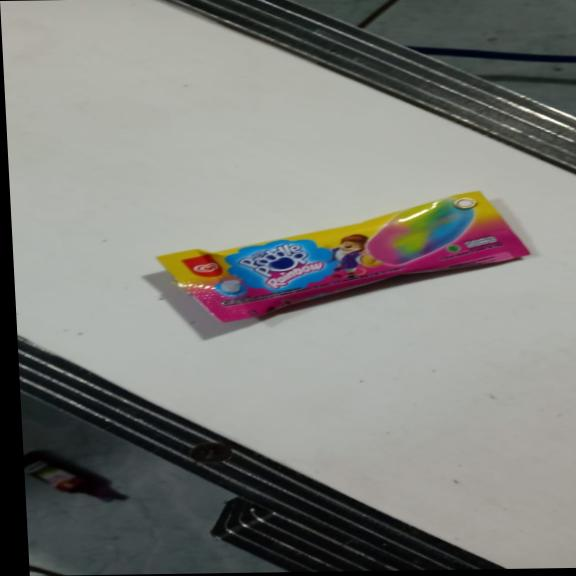Plastik: (154, 188, 538, 323)
